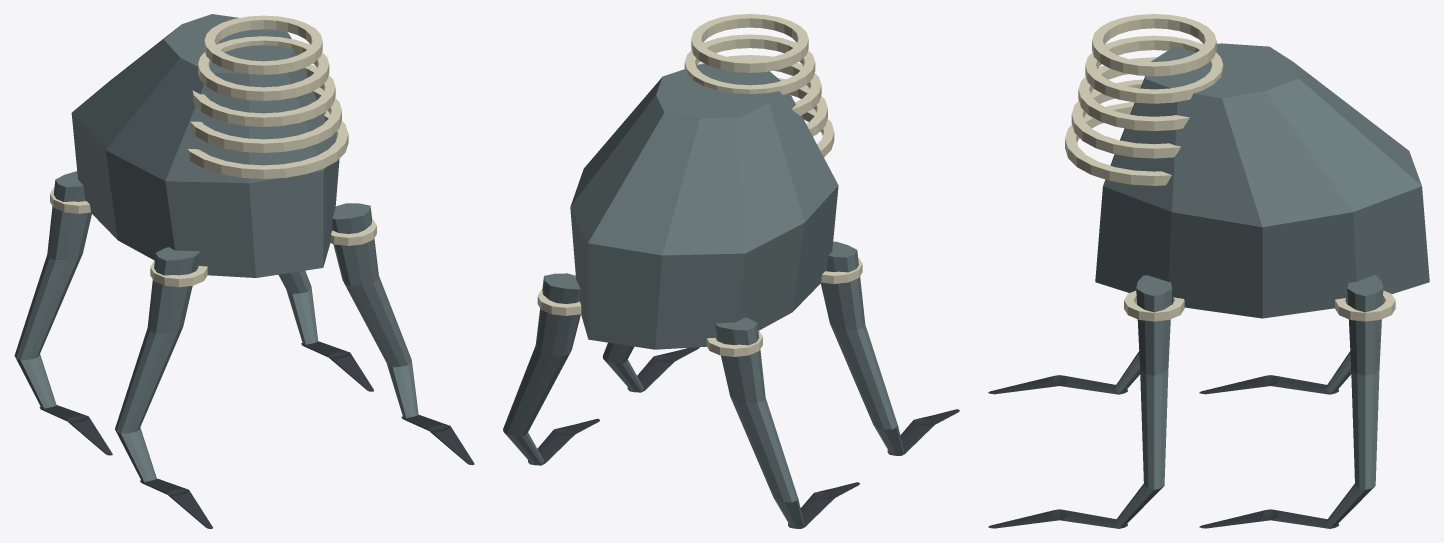
The model's file is rattleblind.fbx.
3 renders of one model, left to right at view 1: azimuth 30°, elevation 25°; view 2: azimuth 150°, elevation 25°; view 3: azimuth 270°, elevation 25°, orthographic. The views are drawn at different scales.
Parts seen in each view (by area): view 1: resonant_back, leg_1_skin.001, leg_3_skin, leg_0_skin.001, hearing_plate_4, hearing_plate_3, hearing_plate_0, hearing_plate_1, hearing_plate_2, leg_2_skin.001, leg_3_hook, leg_2_hook.001 (+4 smaller); view 2: resonant_back, leg_3_skin, leg_1_skin.001, leg_2_skin.001, hearing_plate_4, hearing_plate_3, leg_0_skin.001, hearing_plate_2, leg_2_hook.001, leg_0_hook.001, leg_3_hook, leg_1_hook.001 (+4 smaller); view 3: resonant_back, leg_0_skin.001, leg_2_skin.001, hearing_plate_4, hearing_plate_3, hearing_plate_0, hearing_plate_1, hearing_plate_2, leg_1_hook.001, leg_0_hook.001, leg_3_hook, leg_2_hook.001 (+2 smaller).
Boxes of the visible parts, x1,y1,x2,y2 form: resonant_back: [71, 14, 339, 277]; leg_1_skin.001: [115, 247, 200, 481]; leg_3_skin: [14, 171, 91, 408]; leg_0_skin.001: [332, 203, 418, 418]; hearing_plate_4: [204, 15, 322, 74]; hearing_plate_3: [198, 36, 329, 100]; hearing_plate_0: [187, 110, 348, 178]; hearing_plate_1: [190, 87, 341, 152]; hearing_plate_2: [192, 64, 335, 126]; leg_2_skin.001: [278, 270, 318, 344]; leg_3_hook: [39, 405, 112, 455]; leg_2_hook.001: [301, 341, 373, 391]; resonant_back: [570, 64, 838, 349]; leg_3_skin: [715, 317, 804, 527]; leg_1_skin.001: [820, 241, 904, 454]; leg_2_skin.001: [503, 273, 580, 464]; hearing_plate_4: [691, 14, 808, 72]; hearing_plate_3: [684, 34, 815, 94]; leg_0_skin.001: [602, 342, 643, 391]; hearing_plate_2: [698, 55, 821, 115]; leg_2_hook.001: [528, 418, 599, 465]; leg_0_hook.001: [627, 347, 699, 392]; leg_3_hook: [788, 482, 859, 528]; leg_1_hook.001: [887, 409, 959, 455]; resonant_back: [1095, 43, 1429, 318]; leg_0_skin.001: [1114, 275, 1172, 527]; leg_2_skin.001: [1325, 275, 1383, 527]; hearing_plate_4: [1092, 14, 1216, 76]; hearing_plate_3: [1085, 35, 1223, 103]; hearing_plate_0: [1065, 102, 1171, 185]; hearing_plate_1: [1071, 79, 1180, 158]; hearing_plate_2: [1078, 57, 1189, 131]; leg_1_hook.001: [988, 375, 1127, 394]; leg_0_hook.001: [988, 509, 1127, 528]; leg_3_hook: [1199, 375, 1338, 394]; leg_2_hook.001: [1199, 509, 1338, 528].
Size of the model in its own units: 133 by 171 by 163.
